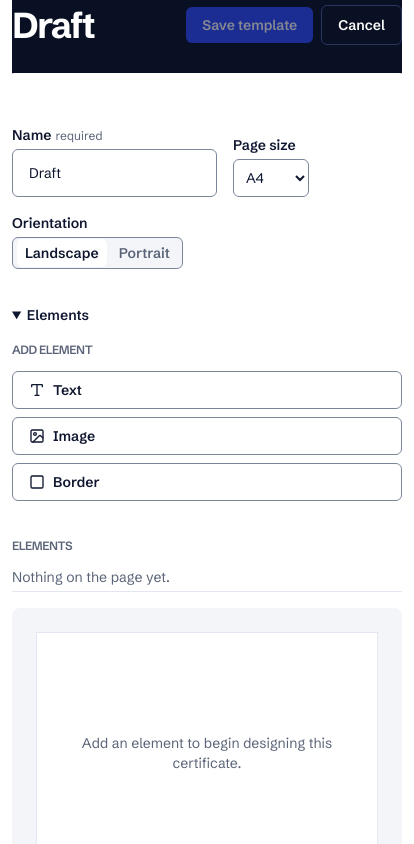
ElementInspector (via TemplateEditorShell) › renders the exact dynamic-field caption copy from UI-SPEC §7.3.5
The width and height of the screenshot is (414, 844).
Click the button "Text" at (37, 390), box top-left (12, 371), bottom-right (402, 409)
(page scrolled)
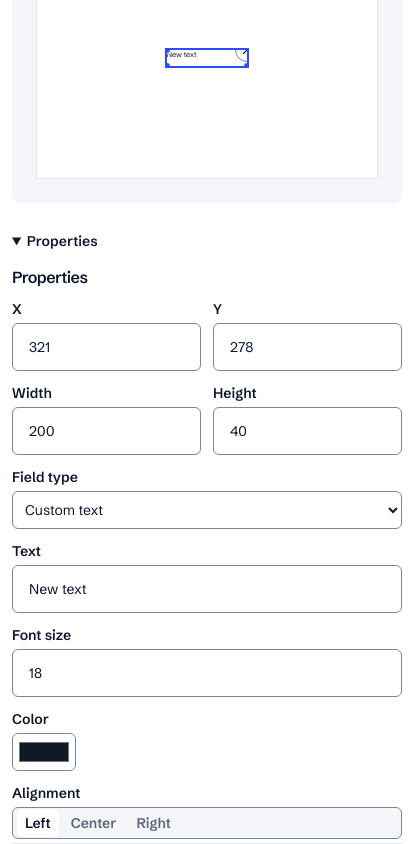
Select "Award title" in the dropdown labelled "Field type" at (207, 510), box top-left (12, 491), bottom-right (402, 529)
(page scrolled)
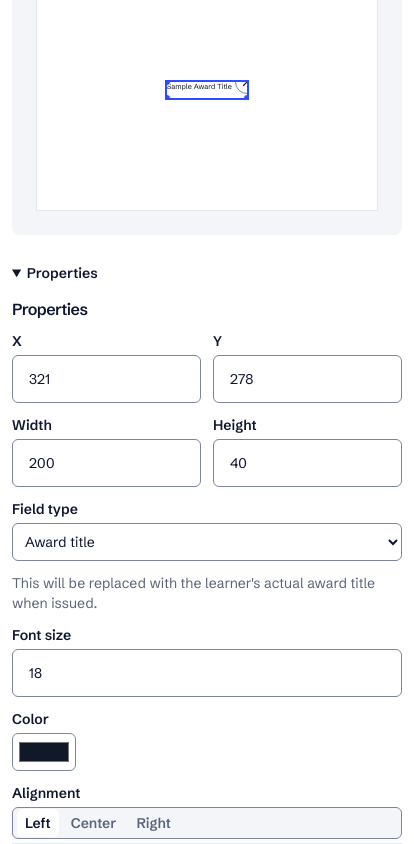
Check: the text "This will be replaced with the learner's actual award title when issued." is shown, box top-left (12, 573), bottom-right (402, 613)
